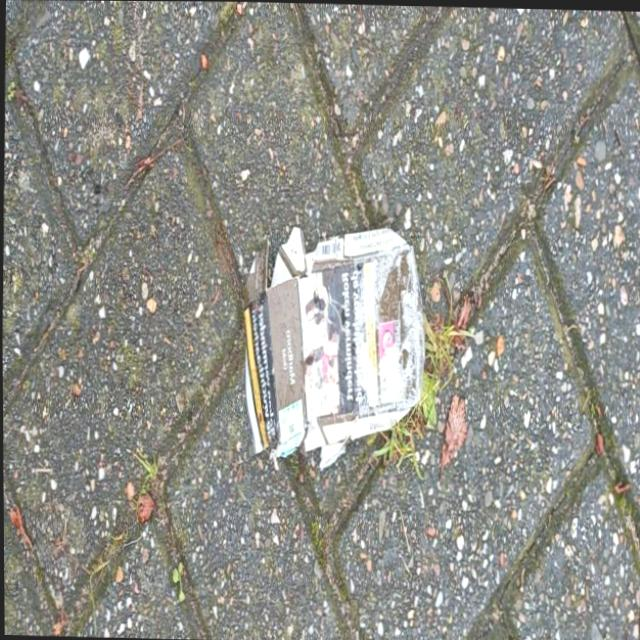Paper: (236, 218, 428, 474)
